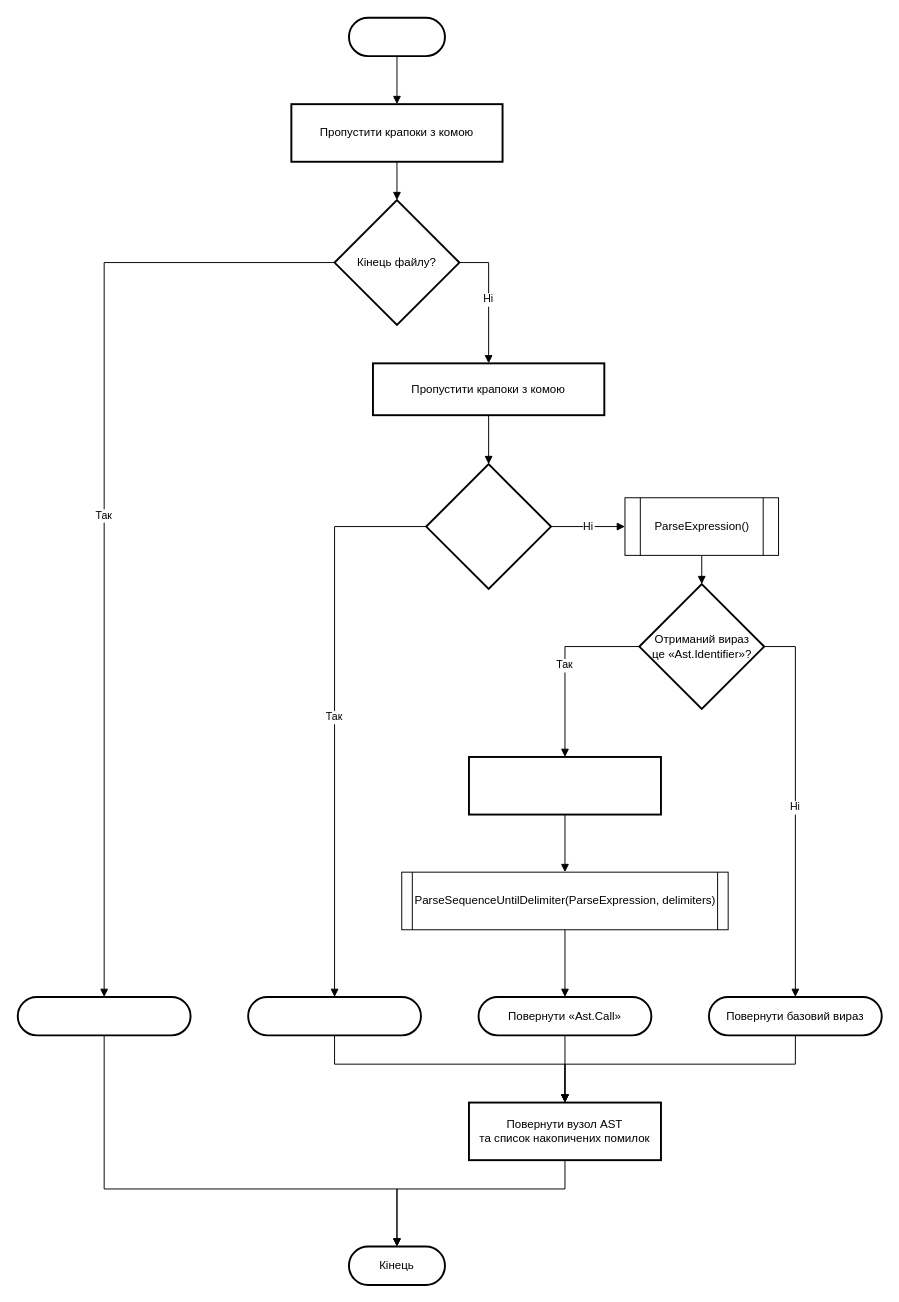
This 899x1302 diagram has some shape labels left out. The shapes that lost their labels are listed below. From the top down, each one's box as (x1, y1, x2, y2) in pixels, then its label:
(348, 16, 445, 57): Початок
(425, 463, 552, 589): Кінець файлу або блоку?
(468, 756, 661, 815): delimiters = if inCurly then [Semicolon, RiCurly] else [Semicolon]
(16, 996, 191, 1036): Завершити парсинг
(247, 996, 421, 1036): Повернути «null»
